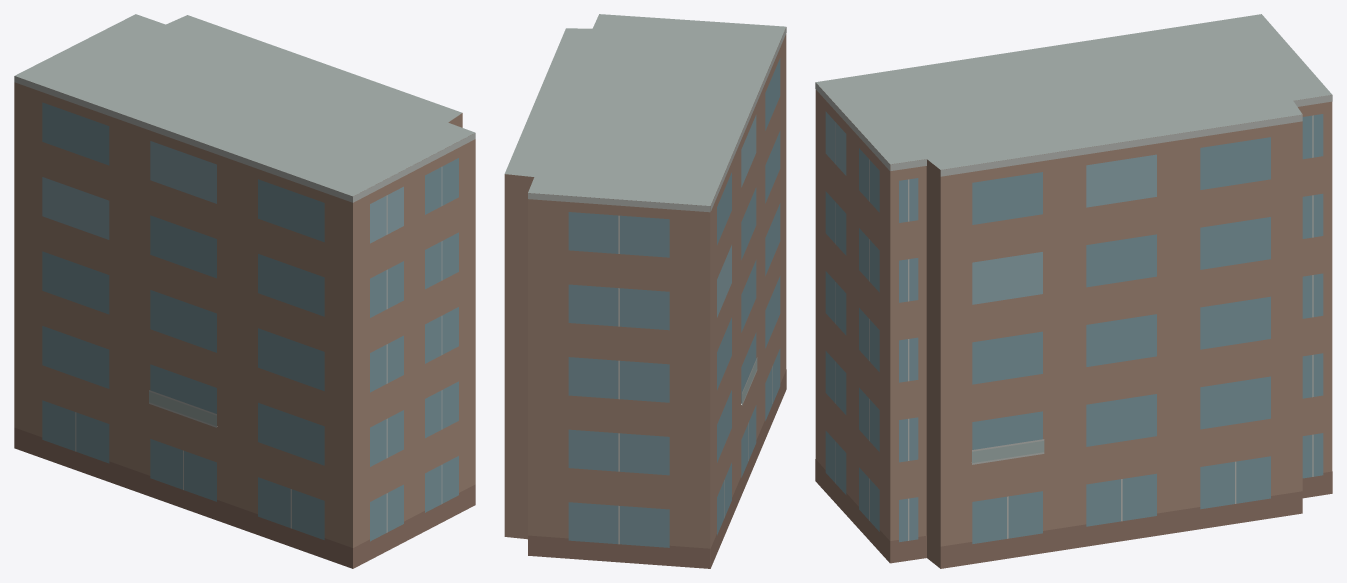
The model's file is survey-upis-32850422.glb.
3 views of the same model, side by side, from view 1: azimuth 30°, elevation 25°; view 2: azimuth 150°, elevation 25°; view 3: azimuth 270°, elevation 25° (orthographic). The views are drawn at different scales.
Visible parts, largest first — view 1: survey-upis-32850422.tmp; view 2: survey-upis-32850422.tmp; view 3: survey-upis-32850422.tmp.
Boxes of the visible parts, x1,y1,x2,y2 form: survey-upis-32850422.tmp: [14, 14, 475, 568]; survey-upis-32850422.tmp: [504, 14, 786, 568]; survey-upis-32850422.tmp: [815, 14, 1332, 568].
Bounding box in the file's own units: 12 × 14.3 × 16.8.
